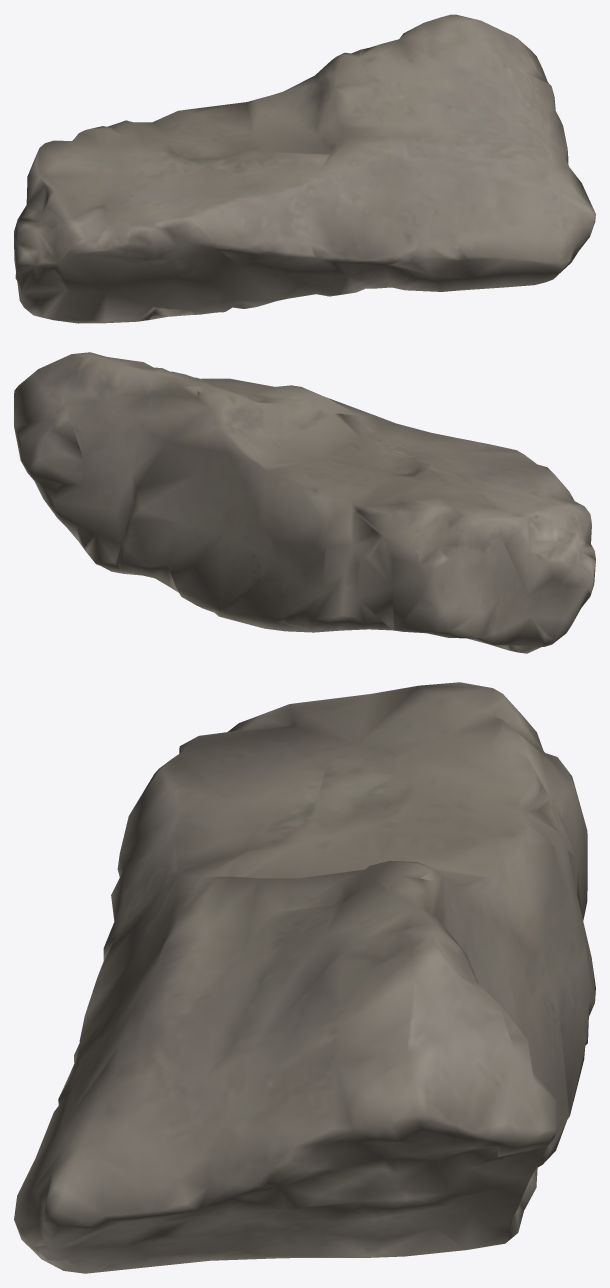
File: moon_rock_01.glb
The picture shows the model from 3 angles, top to bottom: view 1: azimuth 30°, elevation 25°; view 2: azimuth 150°, elevation 25°; view 3: azimuth 270°, elevation 25°; orthographic projection. The views are drawn at different scales.
Parts seen in each view (by area): view 1: moon_rock_01_LOD0; view 2: moon_rock_01_LOD0; view 3: moon_rock_01_LOD0.
Boxes of the visible parts, x1,y1,x2,y2 form: moon_rock_01_LOD0: (14, 14, 595, 323); moon_rock_01_LOD0: (14, 352, 595, 653); moon_rock_01_LOD0: (14, 682, 595, 1273).
Size of what is drawn, in the model's own units: 0.2121 by 0.0751 by 0.1113.
Materials: 1 (1 with a texture image).
